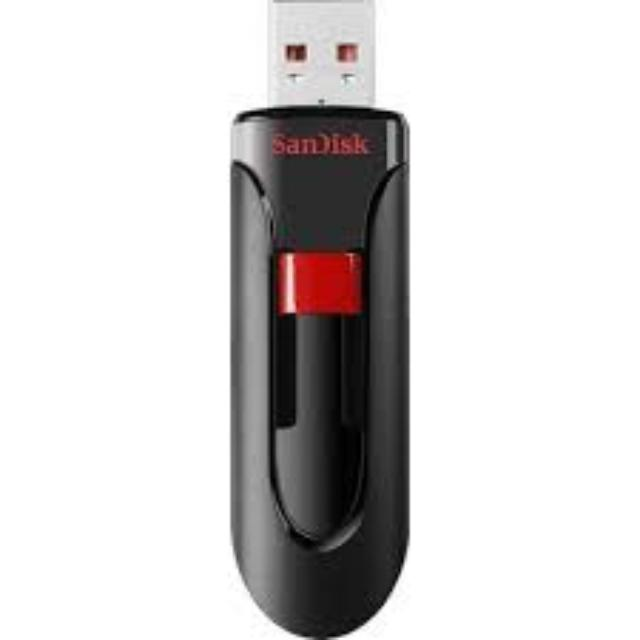USB-Flash-Drive: (228, 0, 415, 640)
